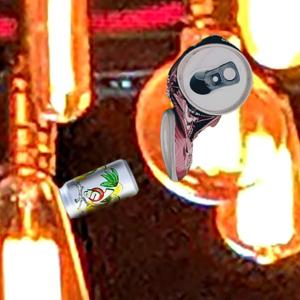can: (58, 159, 139, 219)
